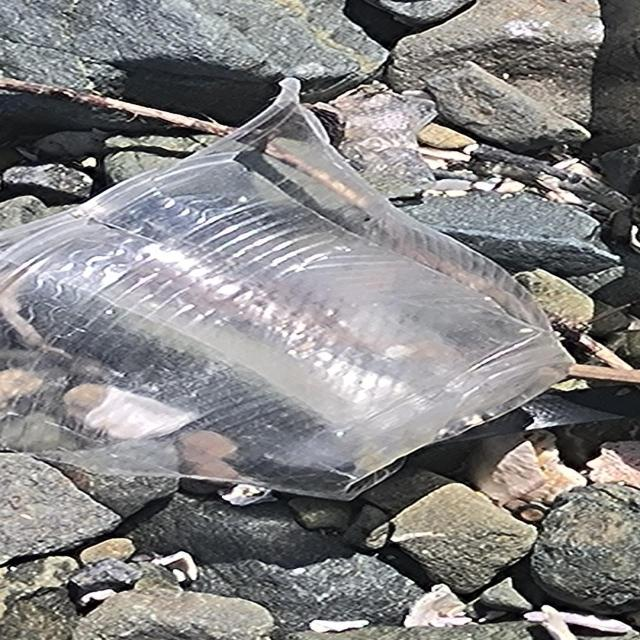plastic_waste: (1, 76, 579, 501)
